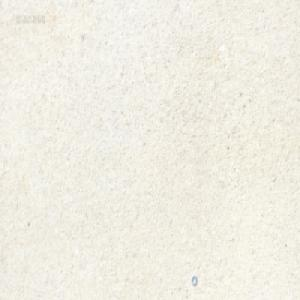Washer: (191, 274, 197, 285)
